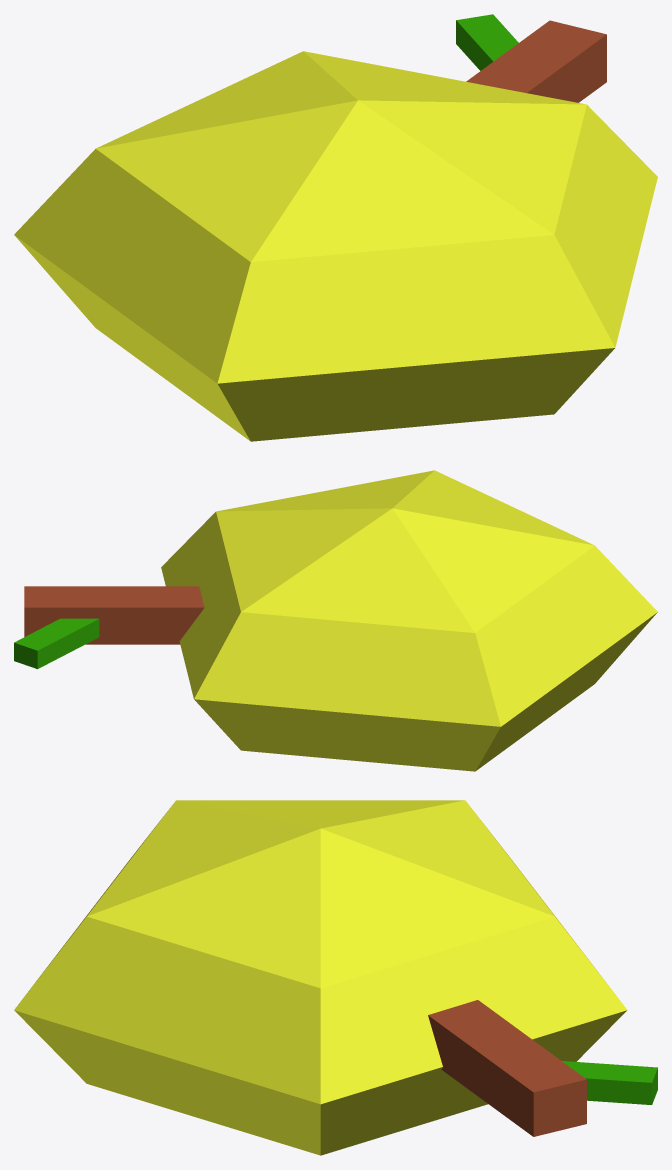
The model's file is fruit_2.FBX.
3 renders of one model, top to bottom at view 1: azimuth 30°, elevation 25°; view 2: azimuth 150°, elevation 25°; view 3: azimuth 270°, elevation 25°, orthographic. The views are drawn at different scales.
Parts seen in each view (by area): view 1: Cylinder009, Box061, Box060; view 2: Cylinder009, Box061, Box060; view 3: Cylinder009, Box061, Box060.
Boxes of the visible parts, x1,y1,x2,y2 form: Cylinder009: (14, 51, 657, 441); Box061: (466, 20, 606, 102); Box060: (456, 14, 518, 70); Cylinder009: (161, 470, 657, 771); Box061: (24, 586, 204, 644); Box060: (14, 618, 99, 669); Cylinder009: (14, 800, 627, 1155); Box061: (428, 1000, 586, 1136); Box060: (562, 1061, 657, 1104).
Bounding box in the file's own units: 52.95 × 20.01 × 52.34.
